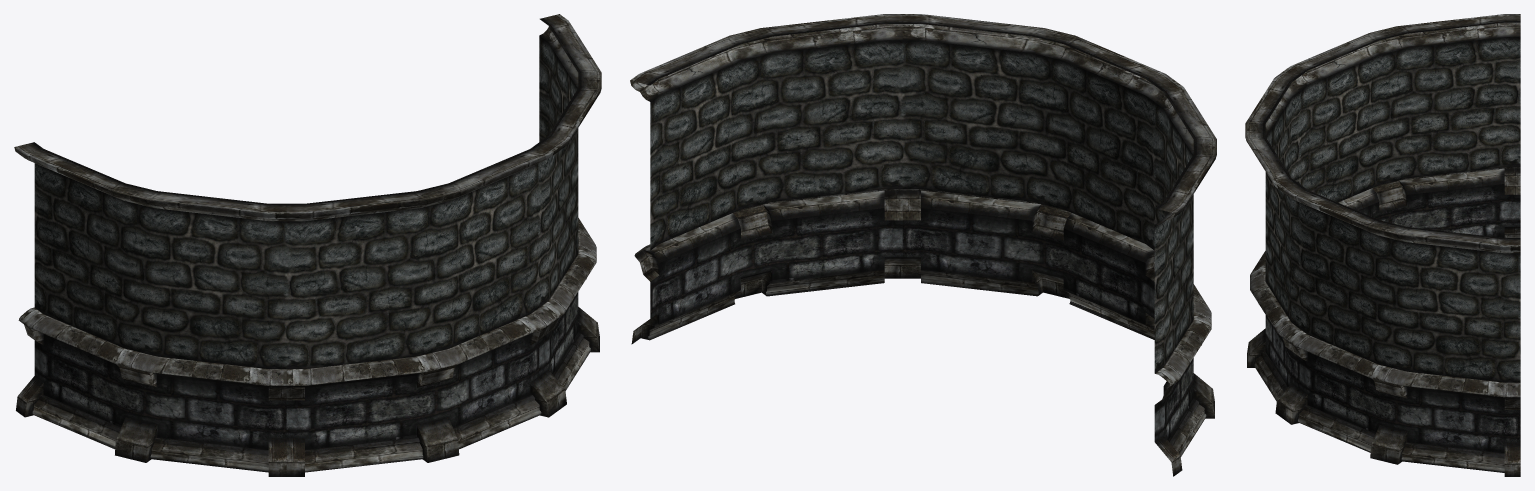
The model's file is default_ushape.DAE.
3 views of the same model, side by side, from view 1: azimuth 30°, elevation 25°; view 2: azimuth 150°, elevation 25°; view 3: azimuth 270°, elevation 25° (orthographic). The views are drawn at different scales.
Parts seen in each view (by area): view 1: Object067; view 2: Object067; view 3: Object067.
Boxes of the visible parts, x1,y1,x2,y2 form: Object067: [14, 14, 601, 476]; Object067: [630, 14, 1216, 476]; Object067: [1245, 14, 1520, 476].
Bounding box in the file's own units: 8.65 × 4 × 4.33.
